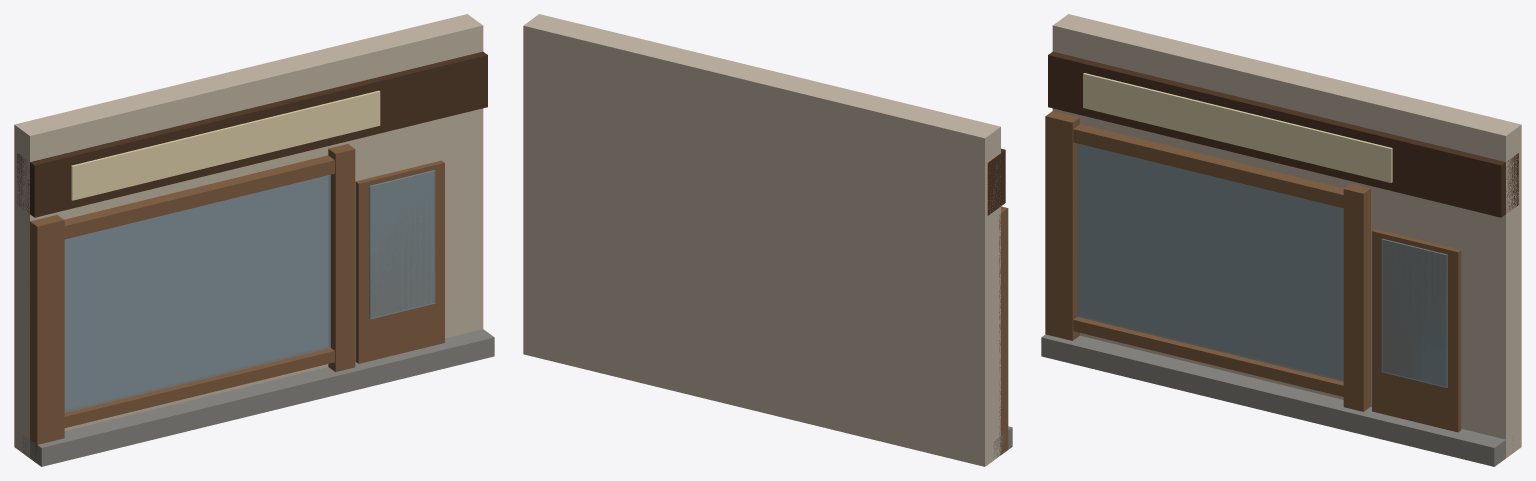
File: SM_P1_Storefront_Hardware_A.obj
The picture shows the model from 3 angles, left to right: view 1: azimuth 30°, elevation 25°; view 2: azimuth 150°, elevation 25°; view 3: azimuth 330°, elevation 25°; orthographic projection.
Parts seen in each view (by area): view 1: window_glass, wall_body, signband, stall_riser, door_leaf, sign_face, door_glass, pier_l, pier_m, window_frame_t, window_frame_b; view 2: wall_body, pier_l, signband; view 3: window_glass, wall_body, signband, door_leaf, stall_riser, sign_face, door_glass, pier_l, pier_m, window_frame_t, window_frame_b.
Part boxes in pixels (left/top/right/bottom): window_glass: left=64, top=174, right=330, bottom=412; wall_body: left=14, top=14, right=483, bottom=458; signband: left=17, top=51, right=487, bottom=217; stall_riser: left=22, top=329, right=494, bottom=466; door_leaf: left=355, top=160, right=444, bottom=363; sign_face: left=71, top=90, right=380, bottom=200; door_glass: left=369, top=170, right=435, bottom=319; pier_l: left=28, top=215, right=64, bottom=456; pier_m: left=328, top=144, right=355, bottom=371; window_frame_t: left=64, top=155, right=334, bottom=239; window_frame_b: left=64, top=347, right=334, bottom=427; wall_body: left=523, top=14, right=1000, bottom=466; pier_l: left=999, top=206, right=1008, bottom=455; signband: left=987, top=148, right=1005, bottom=215; window_glass: left=1077, top=143, right=1343, bottom=381; wall_body: left=1052, top=14, right=1521, bottom=458; signband: left=1048, top=51, right=1518, bottom=217; door_leaf: left=1372, top=229, right=1461, bottom=432; stall_riser: left=1041, top=334, right=1512, bottom=466; sign_face: left=1083, top=73, right=1392, bottom=182; door_glass: left=1381, top=238, right=1447, bottom=387; pier_l: left=1045, top=111, right=1079, bottom=340; pier_m: left=1343, top=183, right=1370, bottom=411; window_frame_t: left=1073, top=124, right=1343, bottom=208; window_frame_b: left=1073, top=316, right=1343, bottom=396.
Size of the model in its own units: 5 by 3.4 by 0.52.
